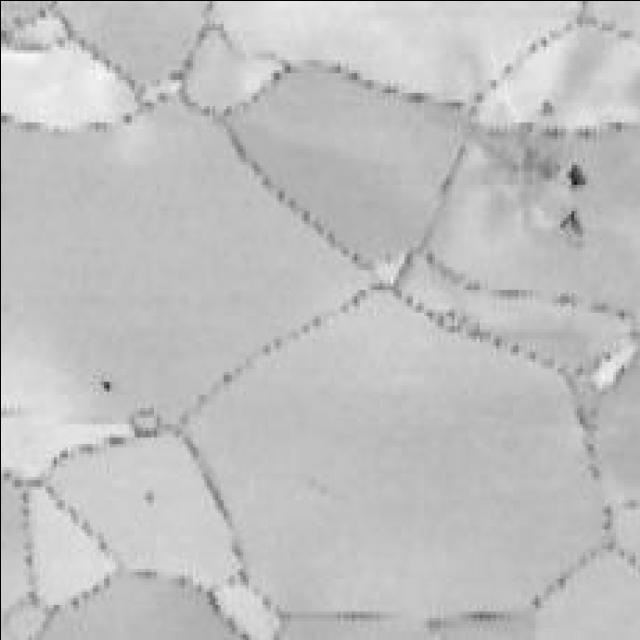good_void: (559, 206, 585, 239), (565, 159, 587, 187), (141, 482, 157, 510), (535, 96, 557, 115), (98, 375, 115, 396)
